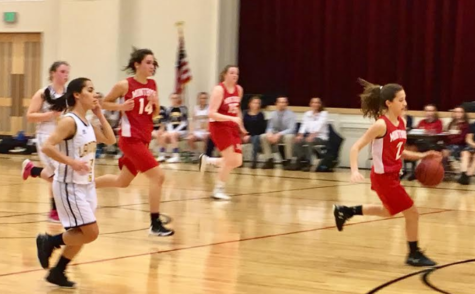ball: (417, 157, 446, 187)
player: (335, 70, 429, 267), (97, 49, 173, 238), (35, 80, 101, 289), (201, 62, 252, 200), (24, 59, 71, 179)
